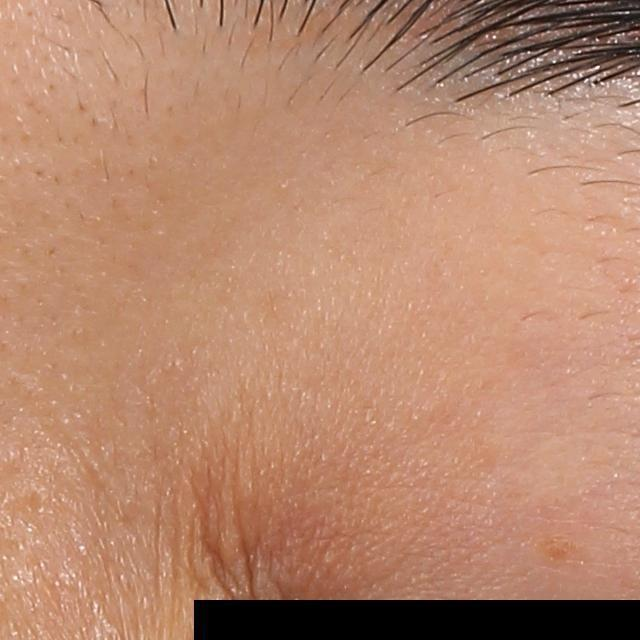melasma: (529, 534, 594, 569)
